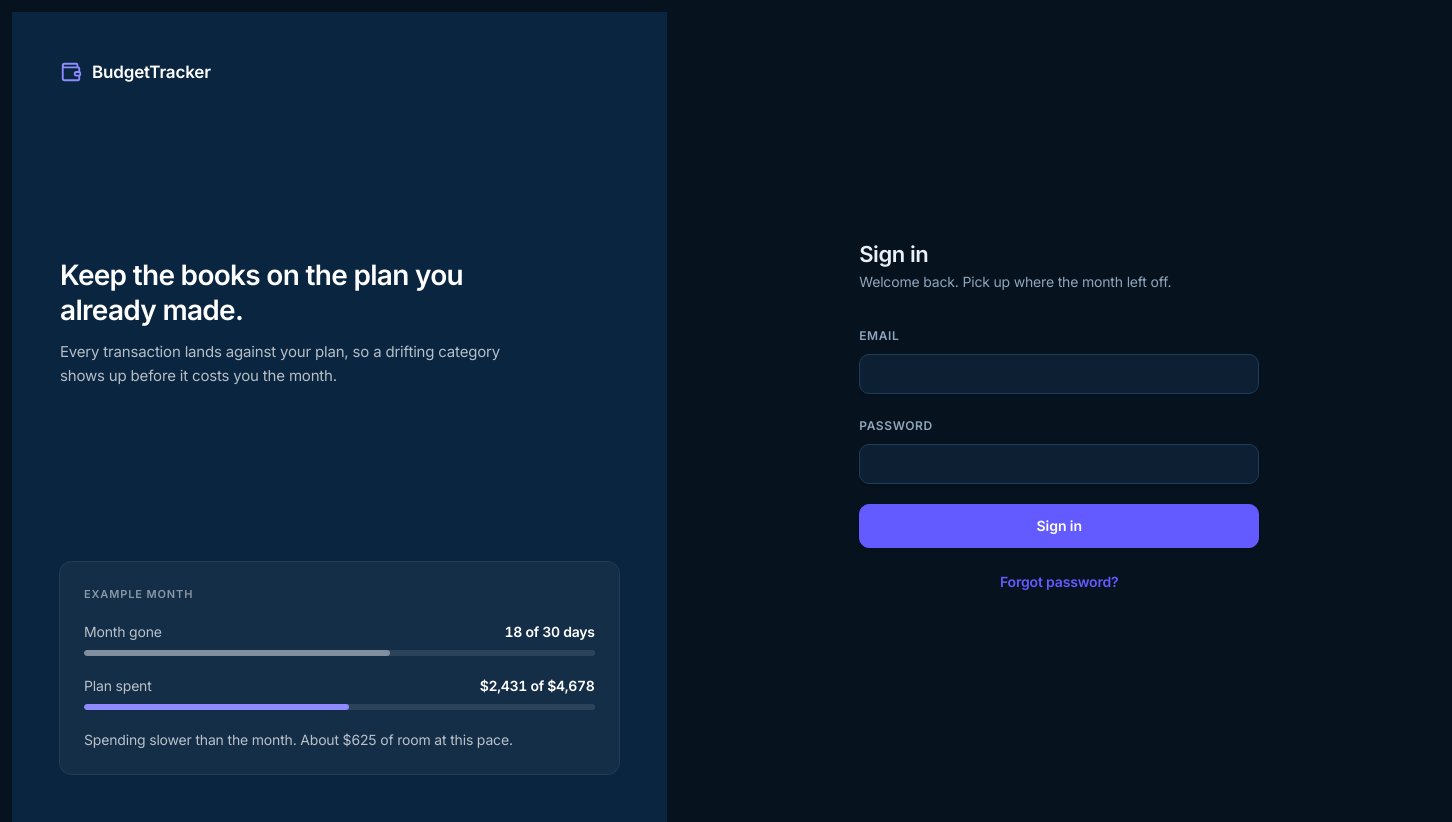
Scenario: LoginPage › goes straight to the dashboard when no code is needed
The width and height of the screenshot is (1452, 822).
In the field labelled "Email": (1059, 374) [859, 354, 1259, 394], type "me@example.com"
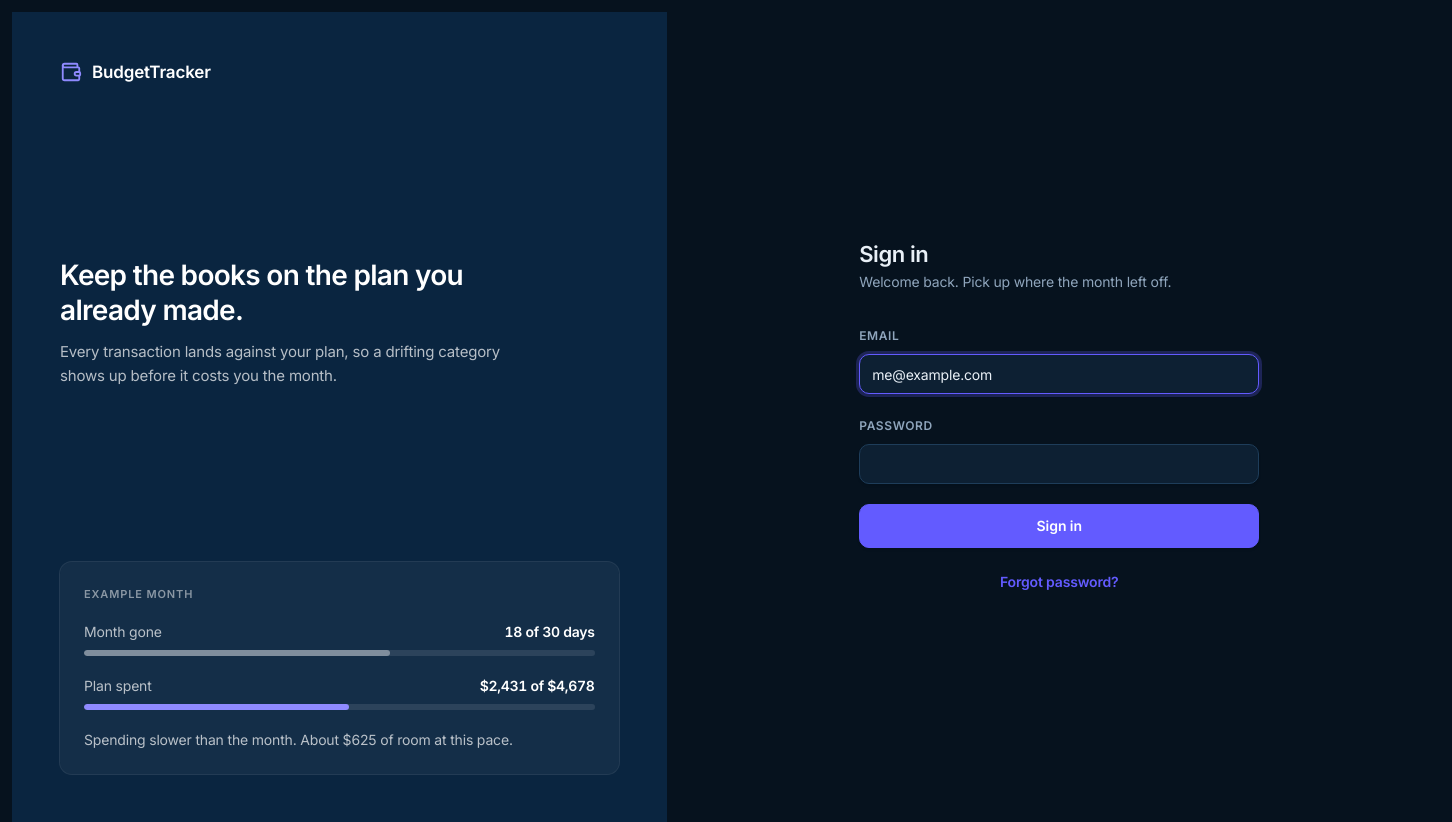
In the password field labelled "Password": (1059, 464) [859, 444, 1259, 484], type "hunter22"
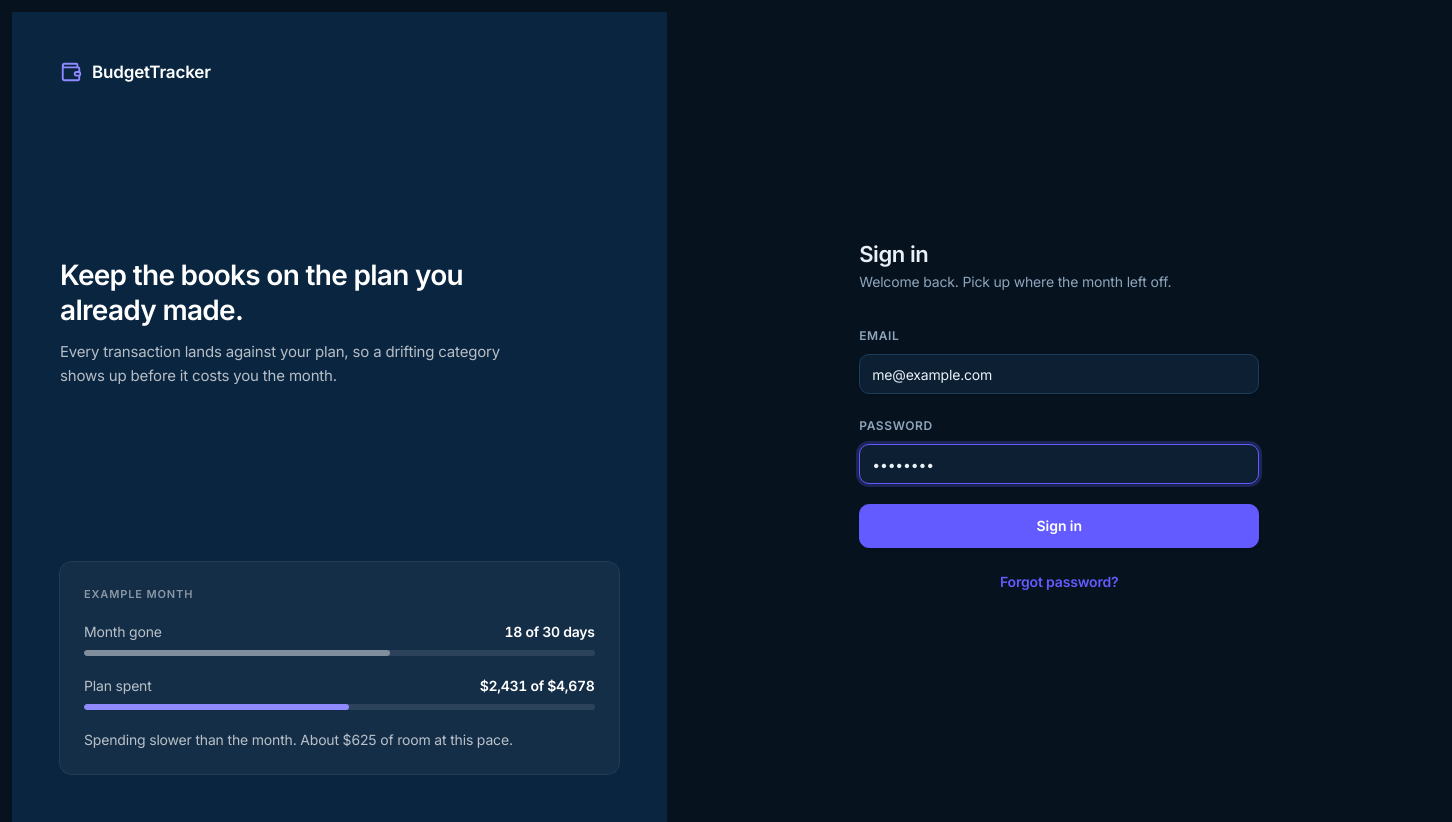
Click the button "Sign in": (1059, 526) [859, 504, 1259, 548]
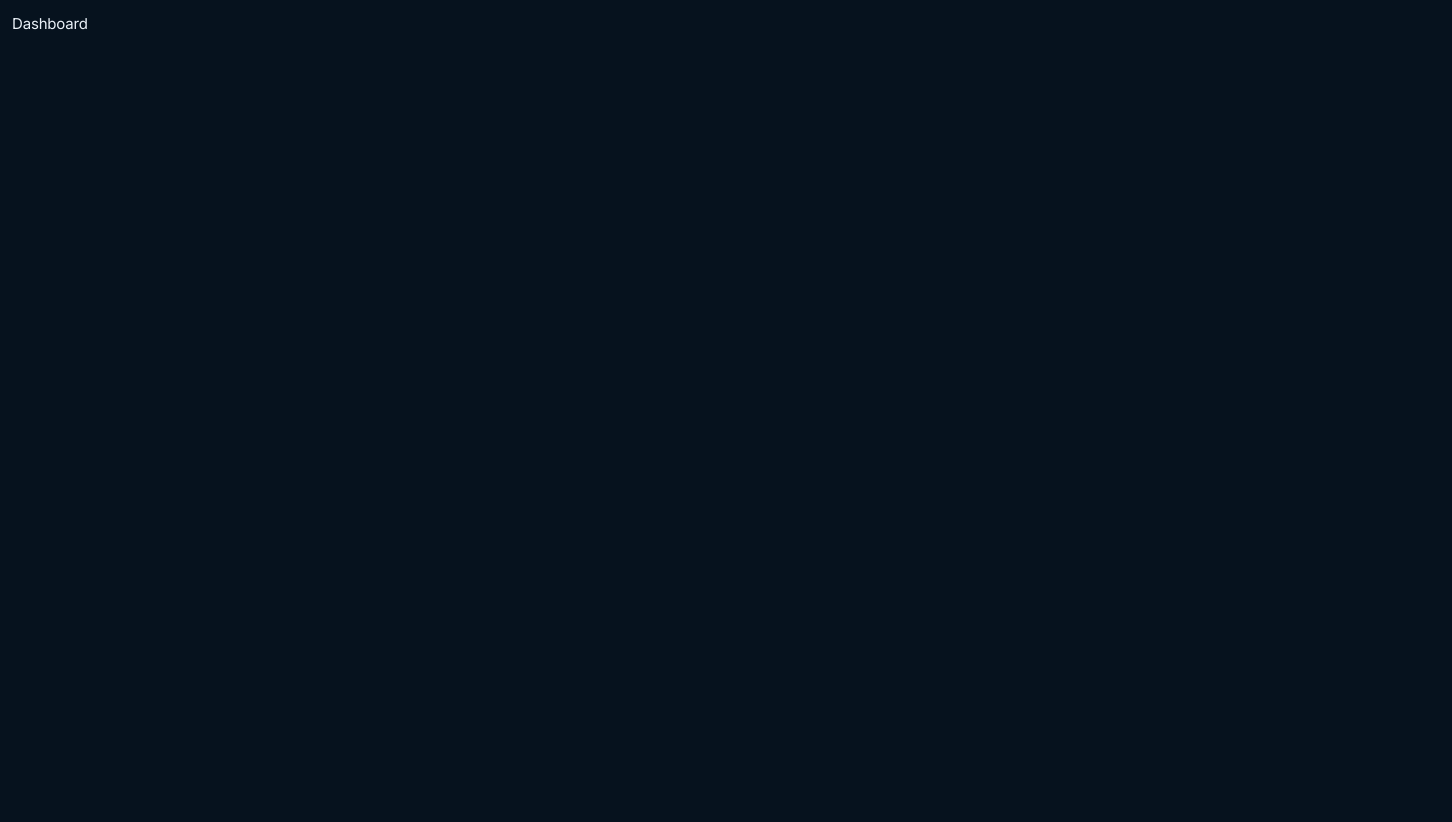
Expected: the text "Dashboard" is shown, [12, 14, 88, 33]
